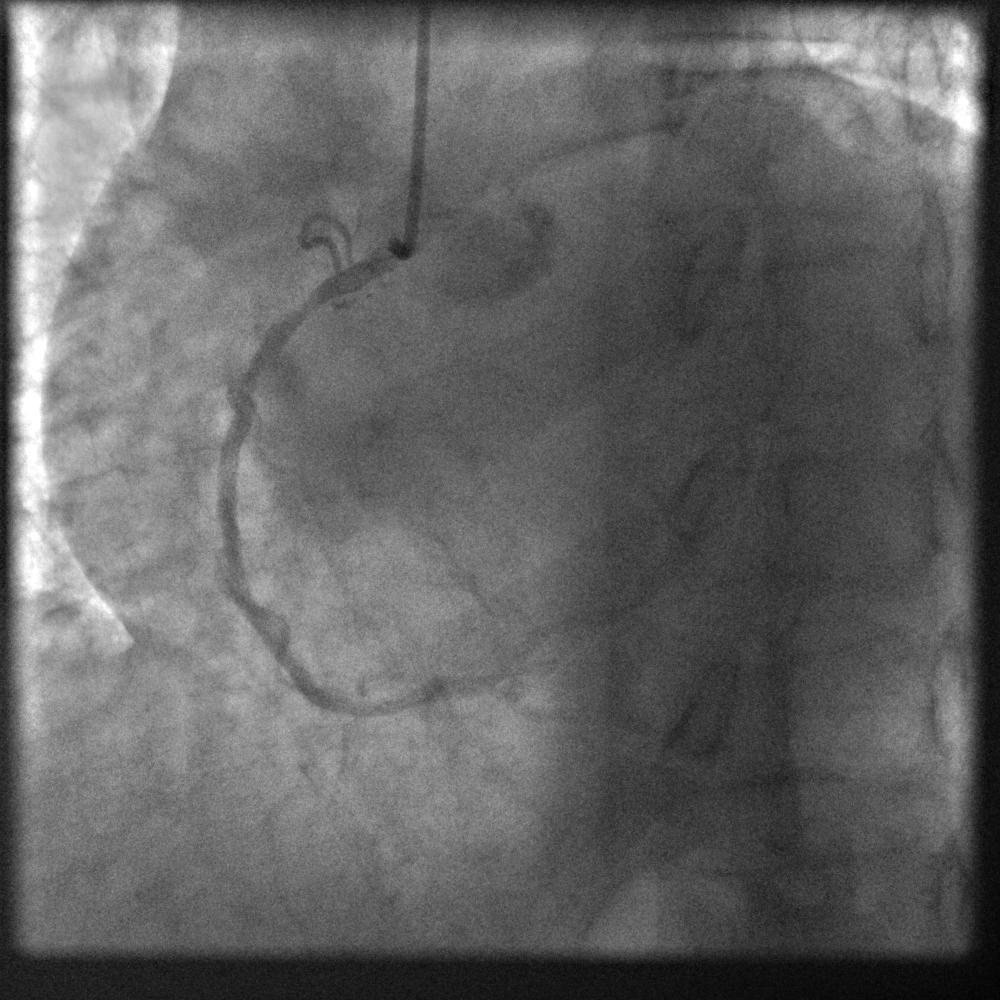Stenosis: (272, 285, 324, 326)
